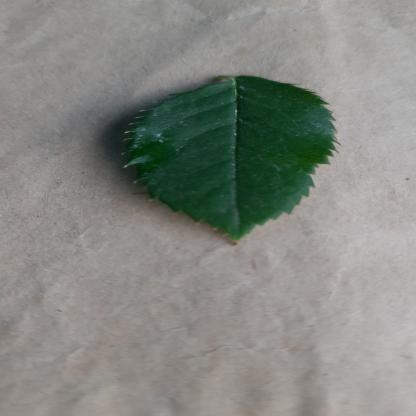normal: (124, 75, 340, 240)
